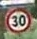limite 30: (3, 6, 31, 33)
